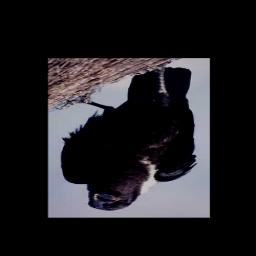Crow: (58, 63, 199, 212)
